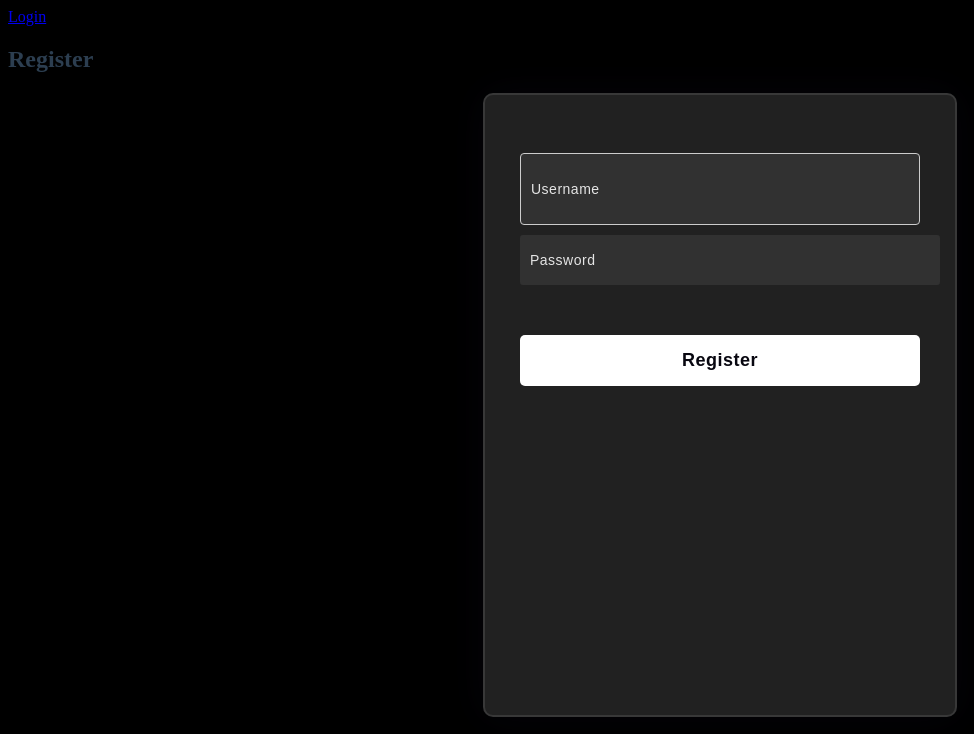
Test: Register Component Basic Tests › shows success message on successful registration
This screenshot has width=974, height=734.
Note: Fill form with valid data
Type "newuser" into the field with placeholder "Username".
click(720, 189); type("newuser")  # box left=520, top=153, right=920, bottom=225
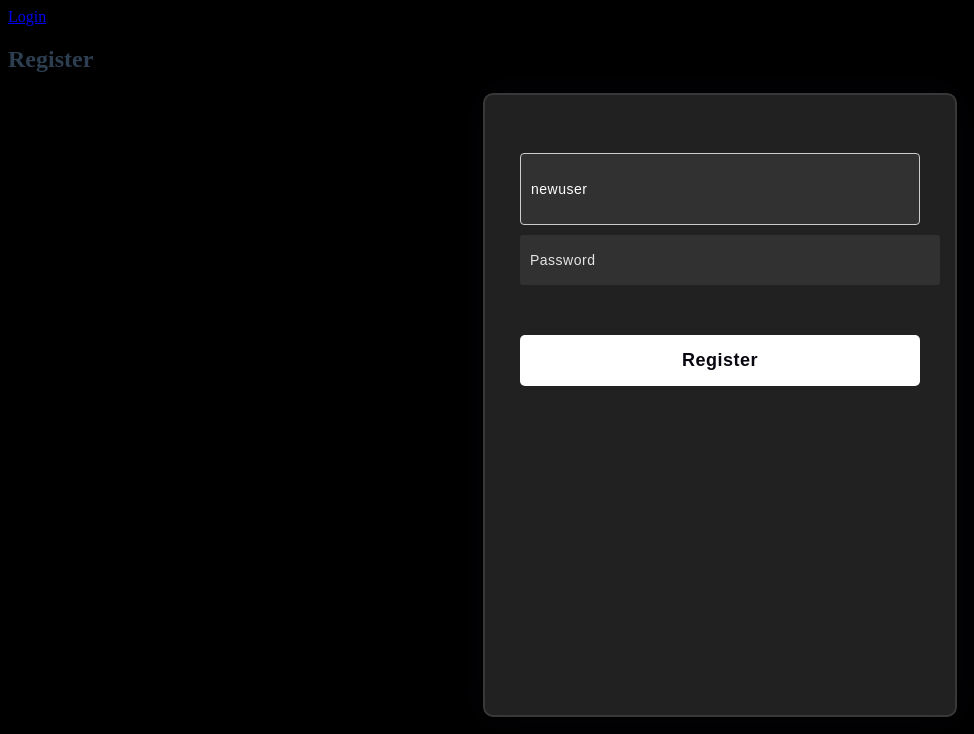
Type "password123" into the password field with placeholder "Password".
click(730, 260); type("password123")  # box left=520, top=235, right=940, bottom=285
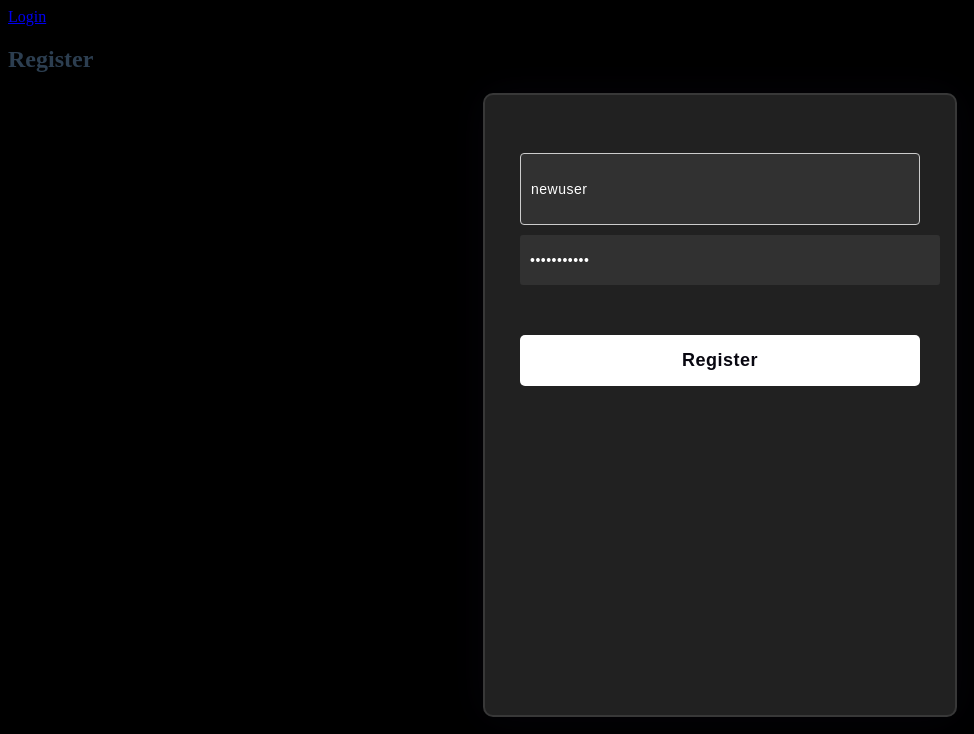
Note: Submit form
Click the button "Register".
click(720, 360)  # box left=520, top=335, right=920, bottom=386
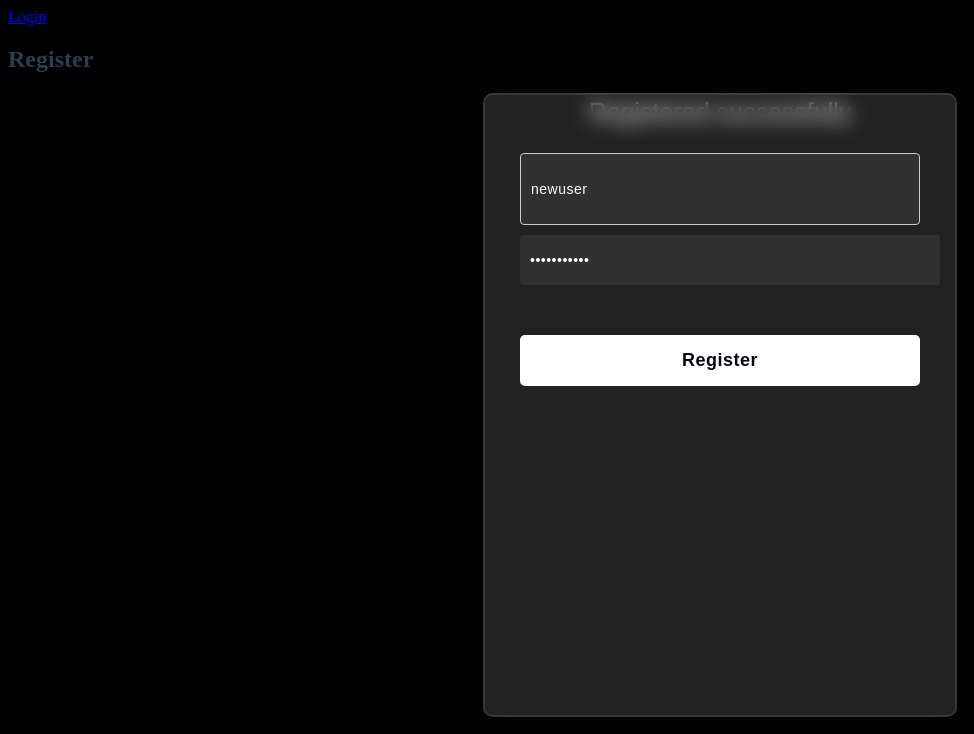
Expected: the text "Registered successfully" is shown, left=589, top=98, right=851, bottom=126
